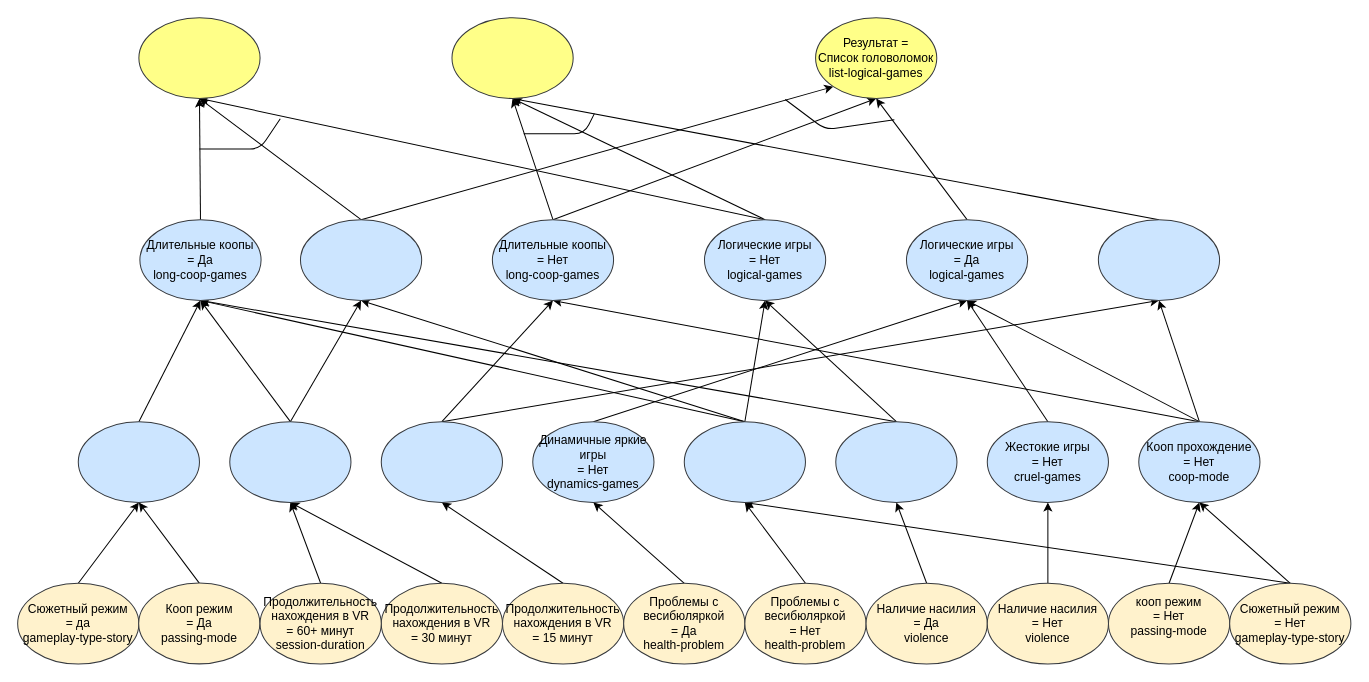
The diagram is 1369 pixels wide and 682 high, and some of its shapes have lost their labels. Here are the shapes that lost their labels. From the top down, the centre of each, then its label:
the point at 199,57: Результат = Список сюжетный коопов list-story-coops
the point at 512,57: Результат = Список ритм-игр list-rhythm-games
the point at 360,259: Игры по раундам = Нет round-games
the point at 1158,259: Игры по раундам = Да round-games
the point at 138,461: Кооп прохождение = Да coop-mode
the point at 290,461: Длительный игровой сеанс = Да long-session-duration
the point at 441,461: Длительный игровой сеанс = Нет long-session-duration
the point at 744,461: Динамичные яркие игры = Да dynamics-games
the point at 896,461: Жестокие игры = Да cruel-games
